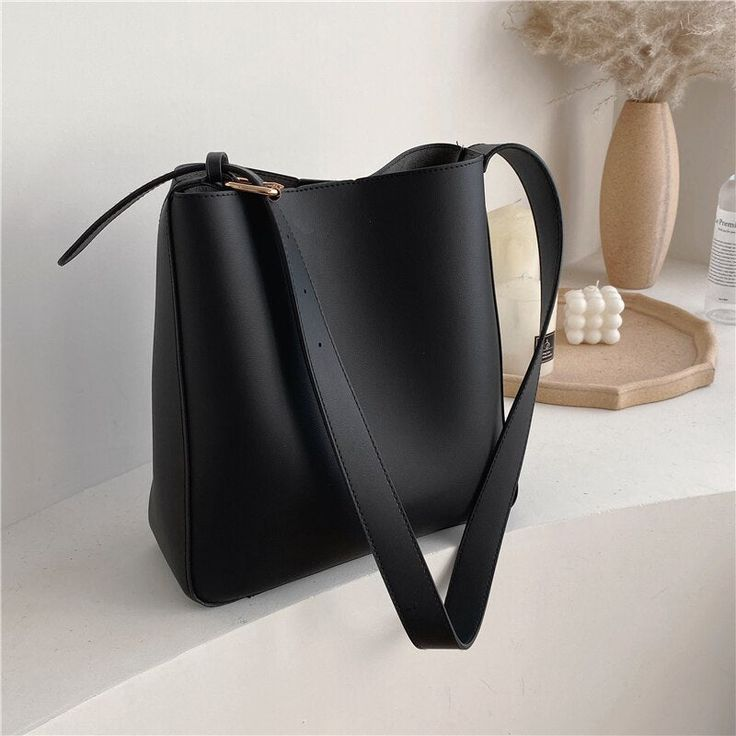cuero: (57, 143, 562, 650)
